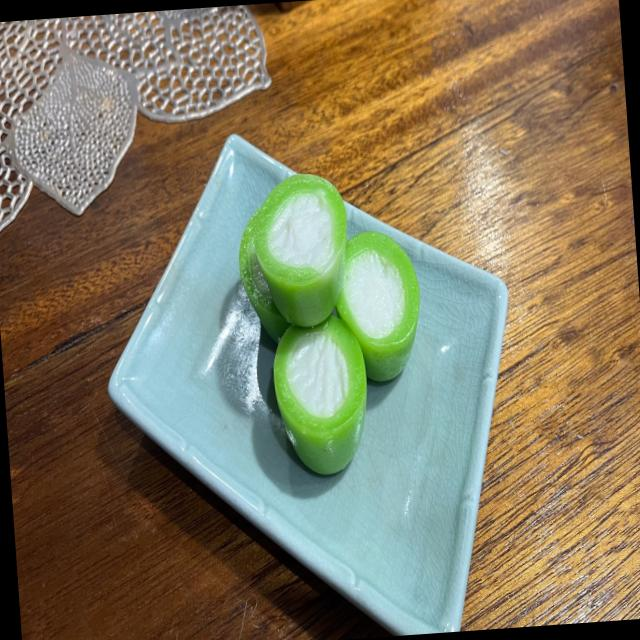nona-manis: (273, 315, 366, 474), (254, 174, 346, 328), (335, 231, 420, 381), (238, 213, 289, 343)
